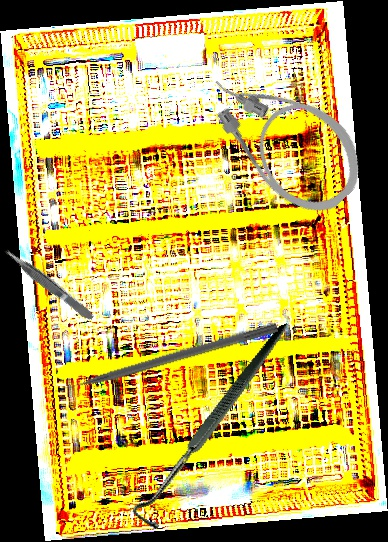Cannula: (191, 39, 380, 231)
Hook Surgical: (87, 322, 344, 535)
Pusher: (50, 320, 279, 397)
Tissue Forceps: (1, 244, 96, 325)
